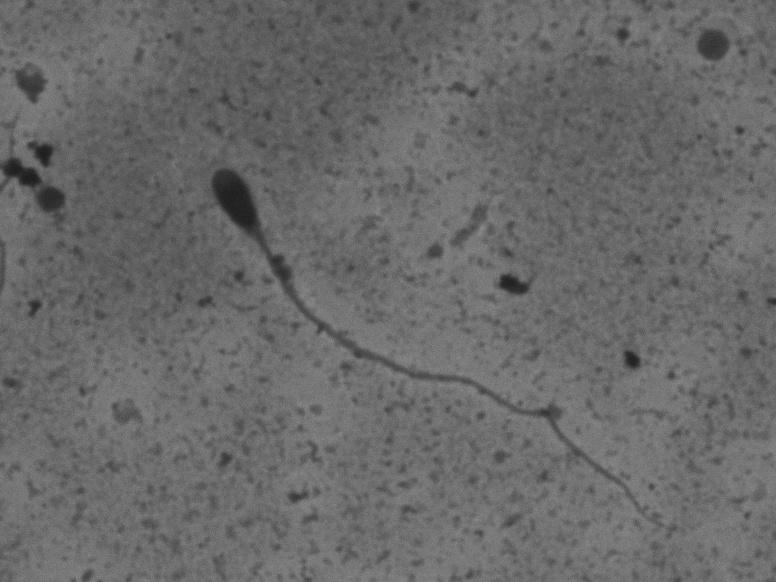Abnormal: (136, 154, 717, 553)
